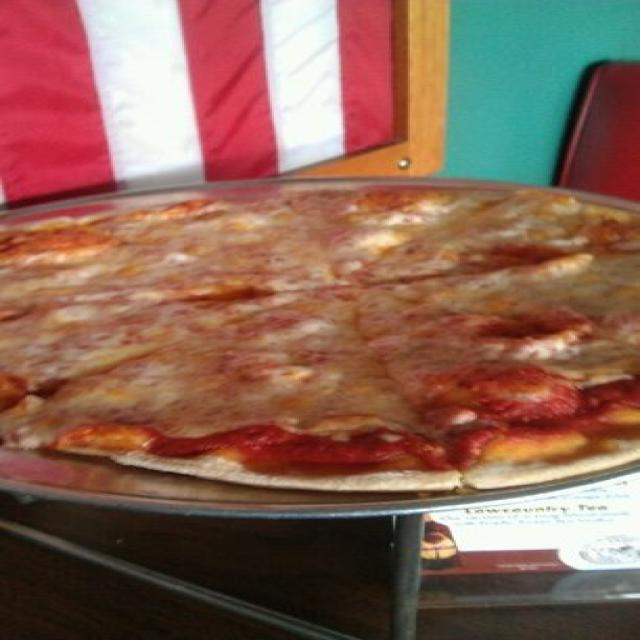Pizza: (0, 184, 638, 491)
